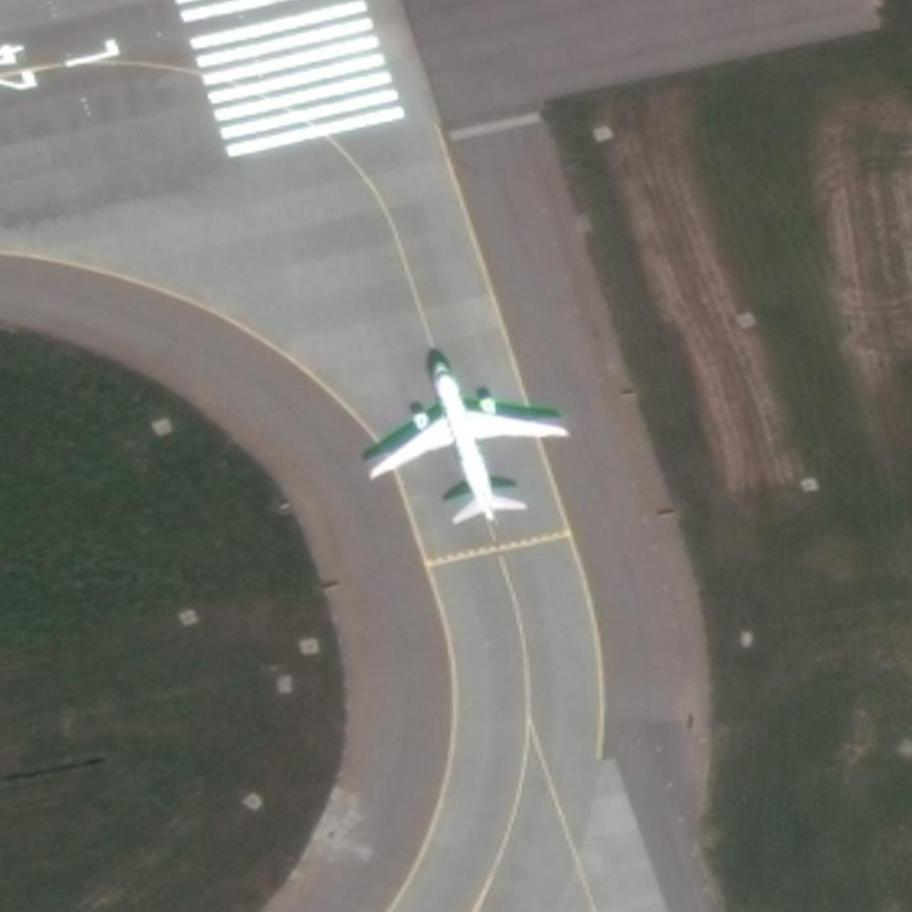plane: (343, 333, 591, 546)
